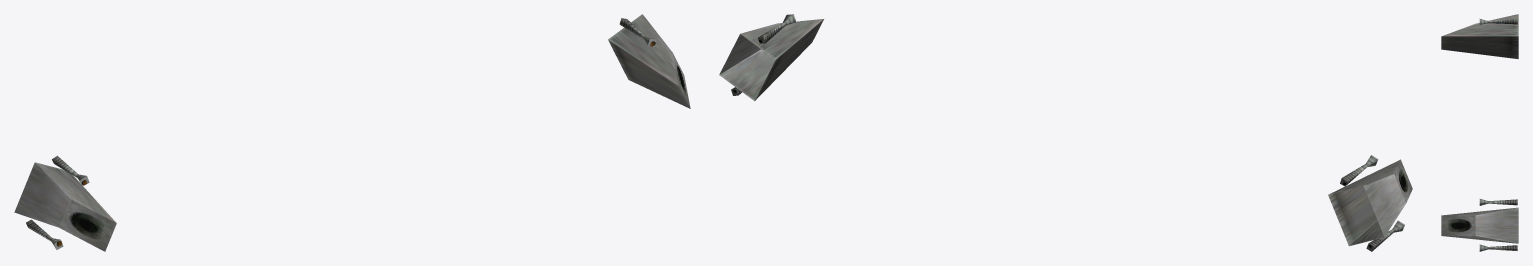
The model's file is hutt_fighter_medium_weapon2_s03_l1.fbx.
The picture shows the model from 3 angles, left to right: view 1: azimuth 30°, elevation 25°; view 2: azimuth 150°, elevation 25°; view 3: azimuth 270°, elevation 25°; orthographic projection. The views are drawn at different scales.
Parts seen in each view (by area): view 1: mesh_node; view 2: mesh_node; view 3: mesh_node.
Part boxes in pixels (x1=…): mesh_node: x1=14, y1=14, x2=690, y2=251; mesh_node: x1=719, y1=14, x2=1412, y2=251; mesh_node: x1=1441, y1=14, x2=1518, y2=251.
Size of the model in its own units: 3.27 by 0.3224 by 0.5166.
Materials: 1 (1 with a texture image).
